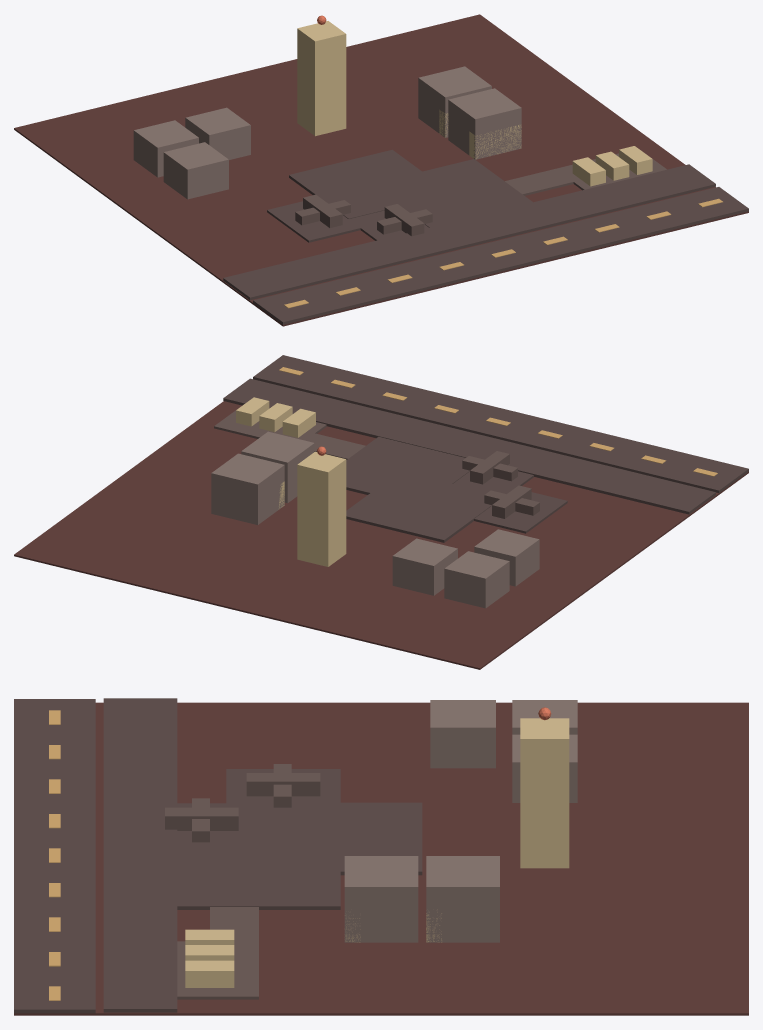
Rendered from stage_13.glb.
3 views of the same model, one above another, from view 1: azimuth 30°, elevation 25°; view 2: azimuth 150°, elevation 25°; view 3: azimuth 270°, elevation 25° (orthographic). The views are drawn at different scales.
Visible parts, largest first — view 1: geometry_0; view 2: geometry_0; view 3: geometry_0.
Part boxes in pixels (x1=…): geometry_0: x1=14, y1=14, x2=748, y2=326; geometry_0: x1=14, y1=355, x2=748, y2=669; geometry_0: x1=14, y1=698, x2=748, y2=1015.
Size of the model in its own units: 9 by 2.06 by 9.
